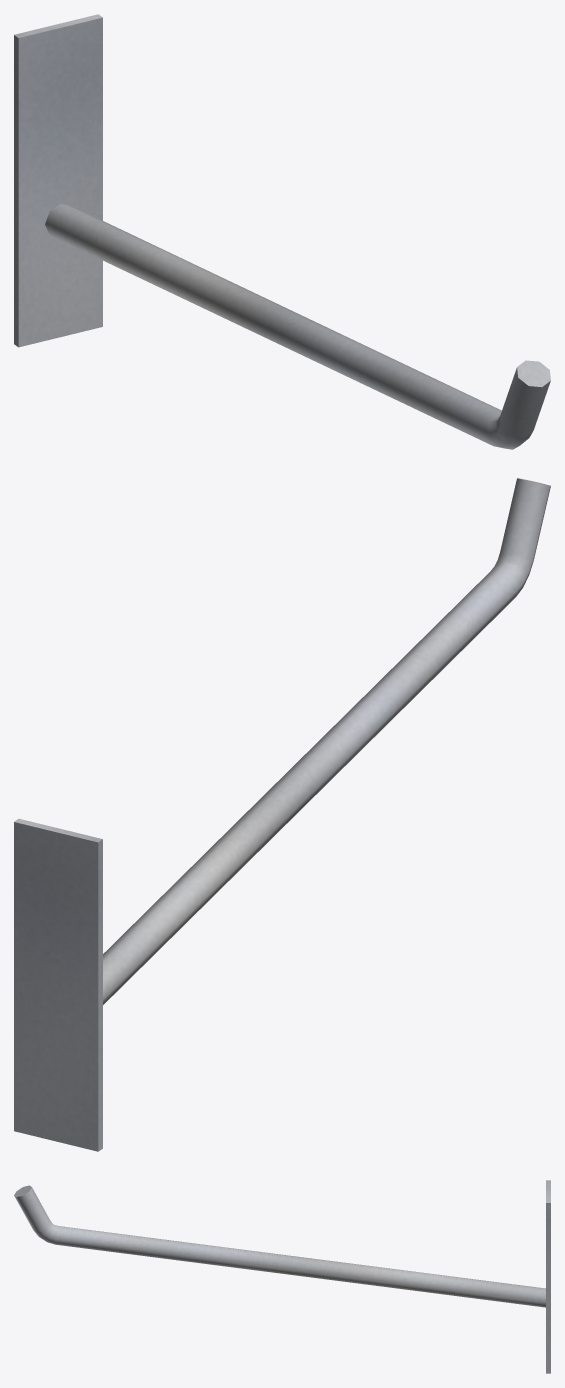
File: haken_lang.fbx
3 views of the same model, one above another, from view 1: azimuth 30°, elevation 25°; view 2: azimuth 150°, elevation 25°; view 3: azimuth 270°, elevation 25° (orthographic). The views are drawn at different scales.
Visible parts, largest first — view 1: Vorlage_Haken_lang; view 2: Vorlage_Haken_lang; view 3: Vorlage_Haken_lang.
Boxes of the visible parts, x1,y1,x2,y2 form: Vorlage_Haken_lang: (14,14,550,449); Vorlage_Haken_lang: (14,478,550,1151); Vorlage_Haken_lang: (14,1180,550,1373).
Size of the model in its own units: 0.016 by 0.0574 by 0.1595.
Materials: 1 (1 with a texture image).
